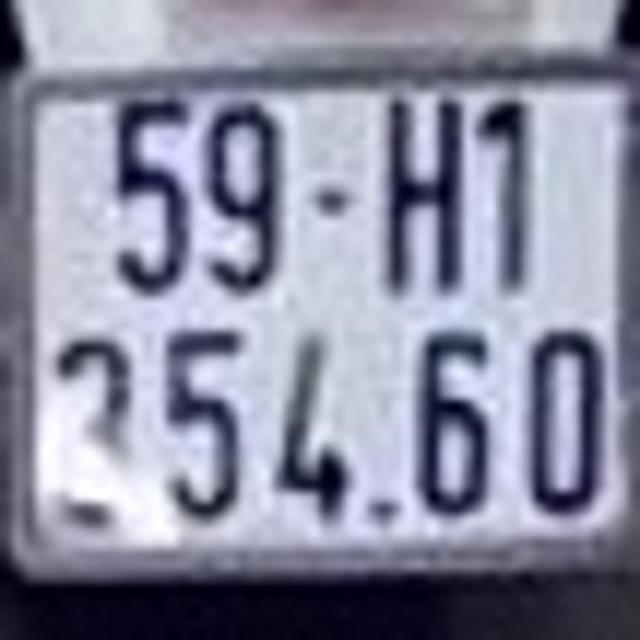0: (521, 310, 618, 528)
1: (474, 73, 546, 297)
3: (51, 313, 132, 537)
4: (276, 292, 362, 522)
5: (158, 308, 260, 526), (105, 83, 196, 300)
6: (411, 298, 501, 525)
9: (201, 82, 289, 296)
H: (376, 66, 469, 297)
